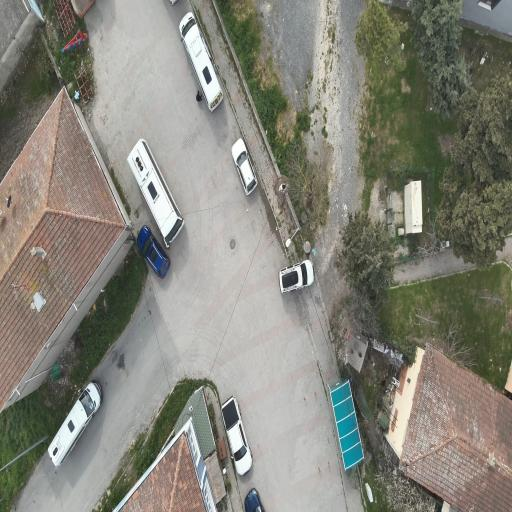bus: (127, 138, 183, 247), (179, 12, 224, 111)
car: (48, 381, 101, 466), (222, 396, 252, 475), (137, 226, 169, 278), (232, 138, 257, 195), (279, 260, 314, 293), (244, 488, 265, 512)
person: (196, 91, 202, 101)
